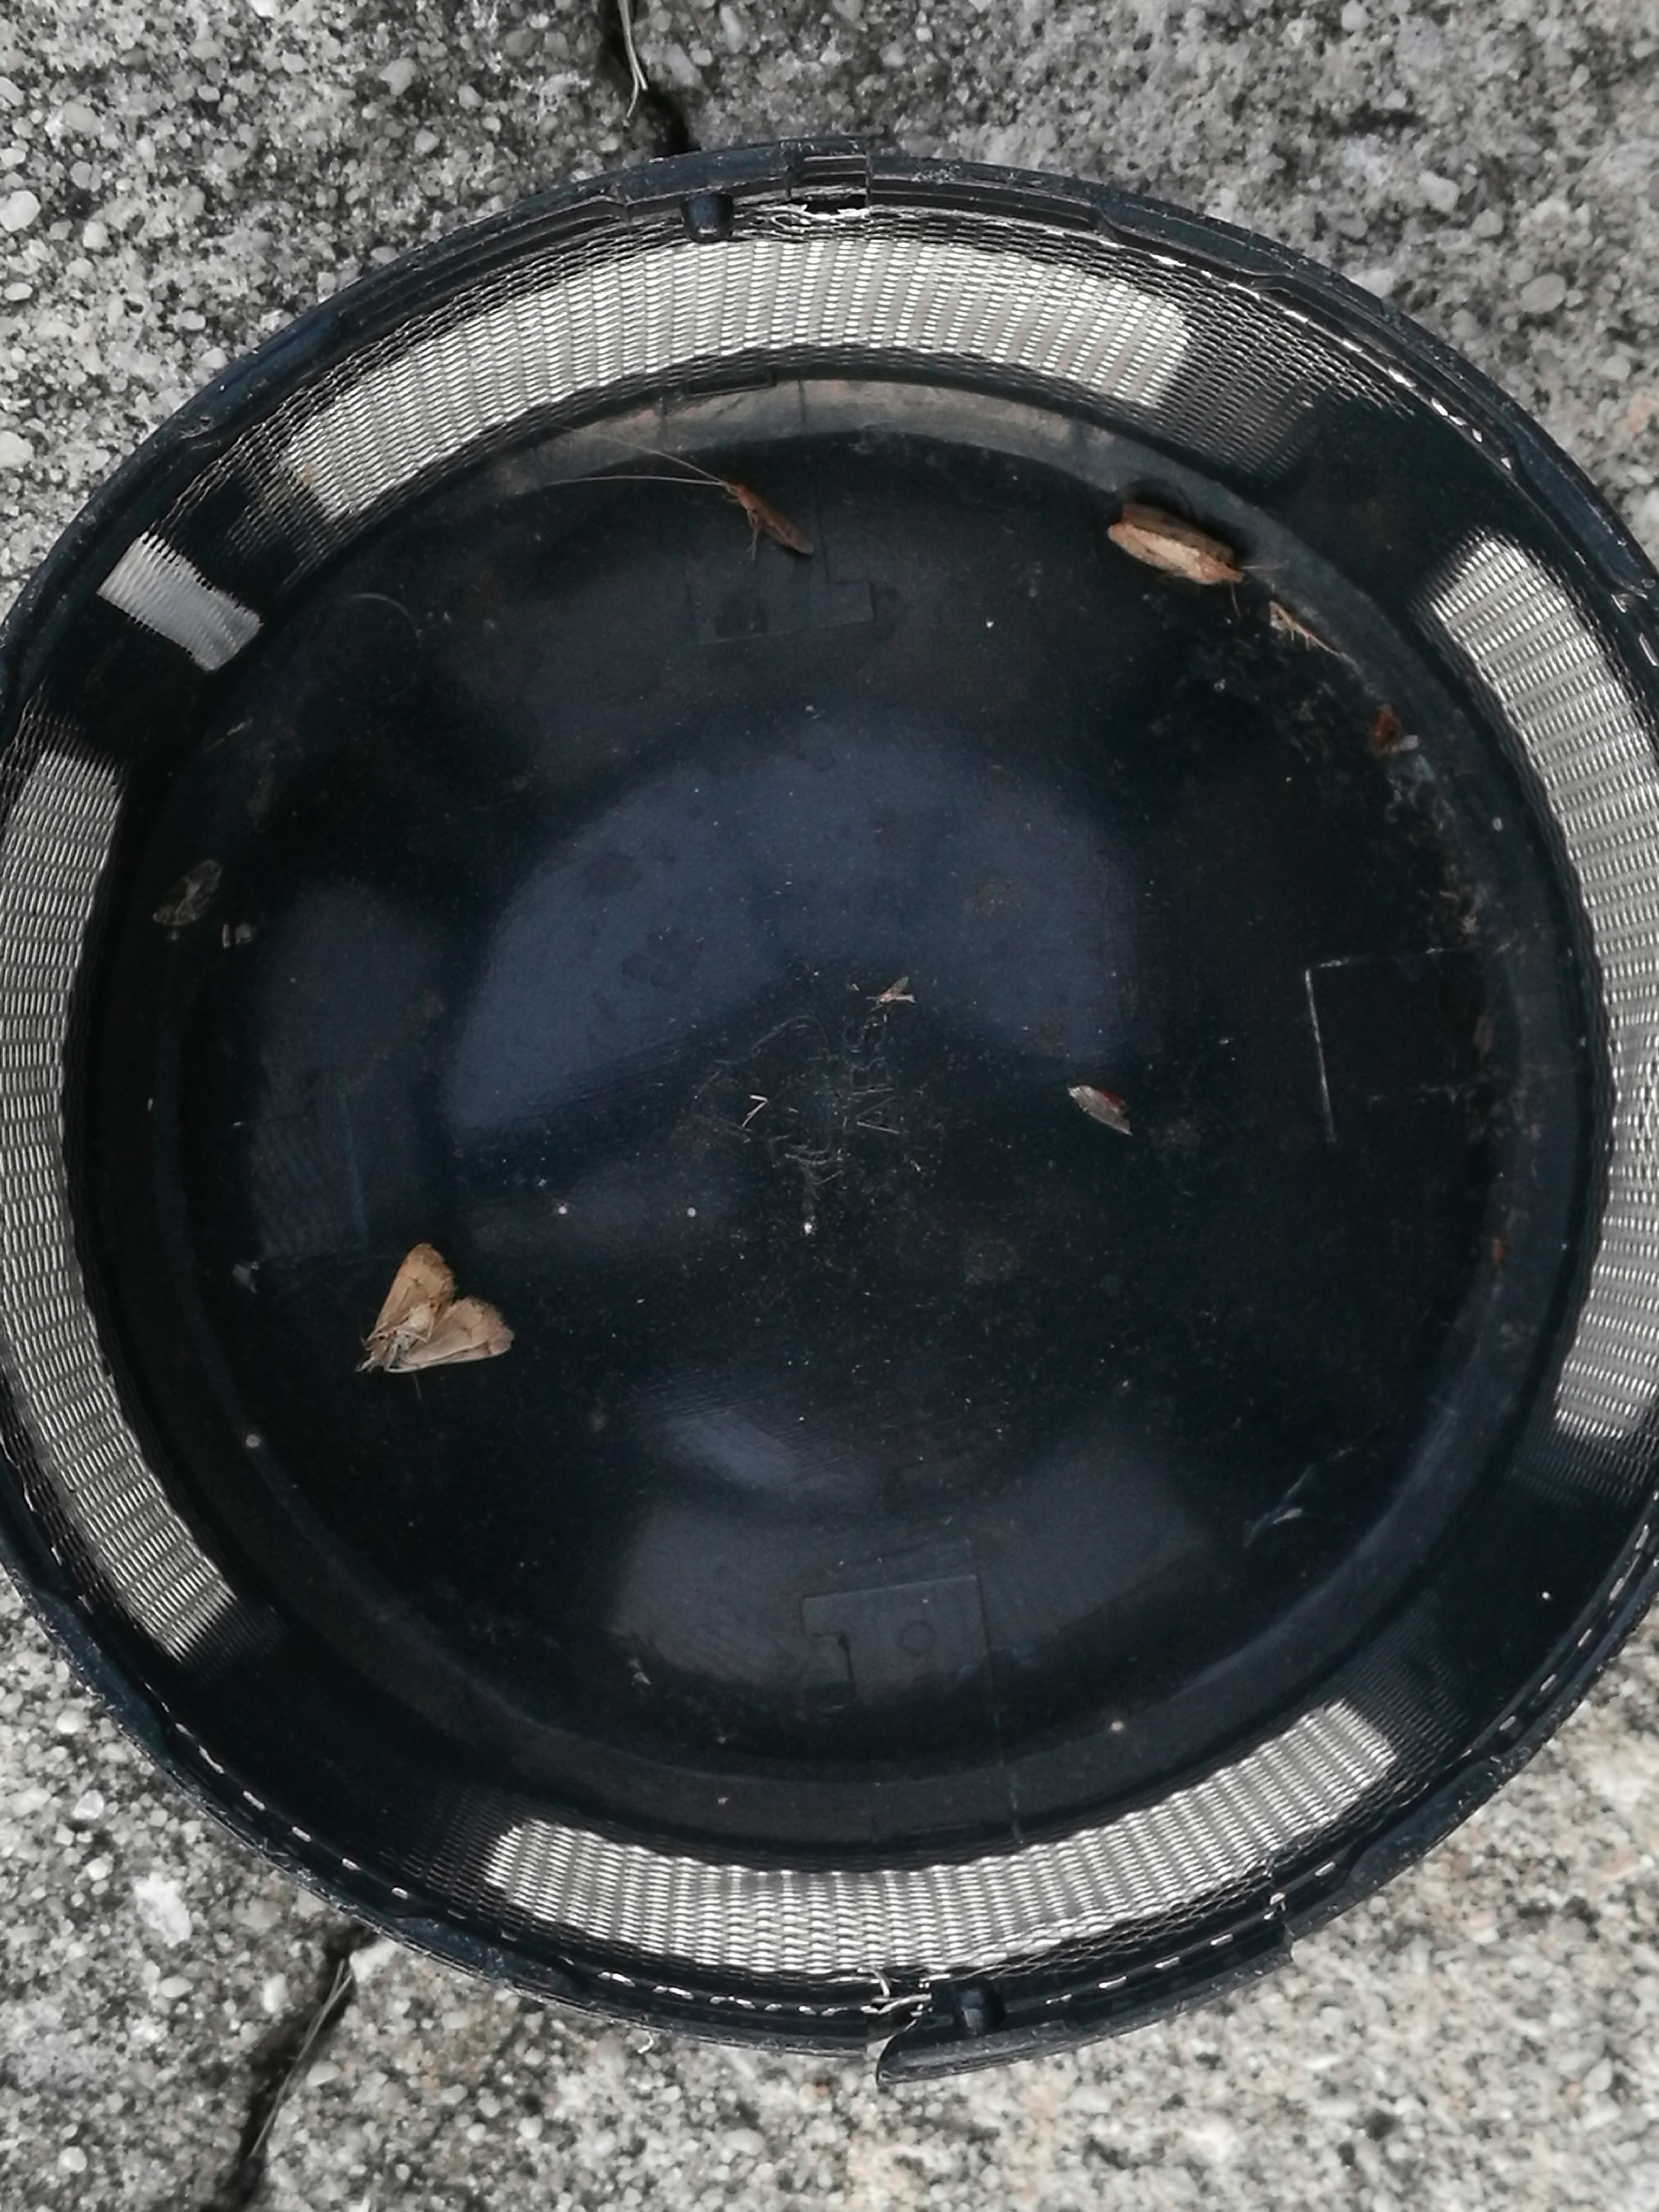mosquito: (727, 475, 810, 554)
moth: (366, 1244, 509, 1371), (1107, 502, 1237, 580)
